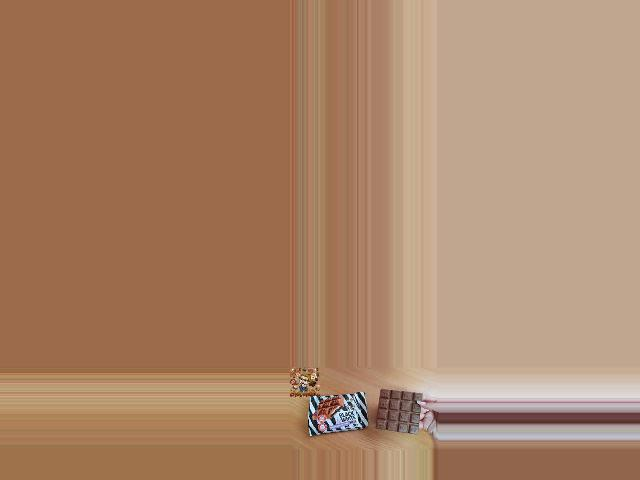chocolate: (305, 393, 370, 435)
